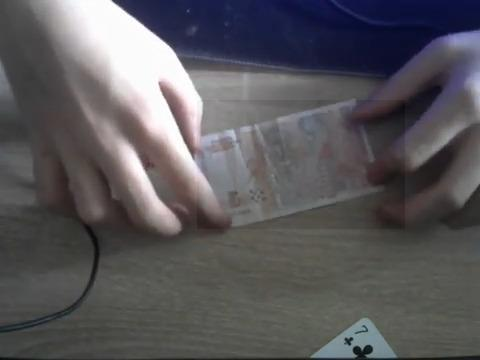5leva: (197, 100, 405, 229)
